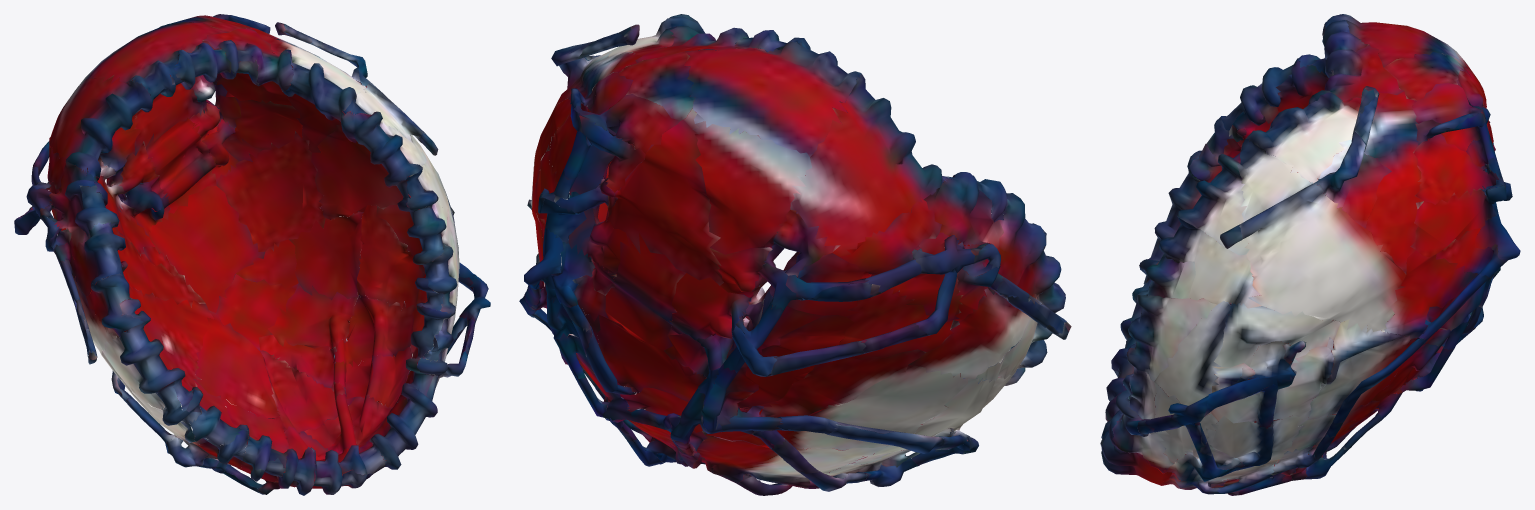
The model's file is glove.glb.
The picture shows the model from 3 angles, left to right: view 1: azimuth 30°, elevation 25°; view 2: azimuth 150°, elevation 25°; view 3: azimuth 270°, elevation 25°; orthographic projection. The views are drawn at different scales.
Visible parts, largest first — view 1: glove; view 2: glove; view 3: glove.
Part boxes in pixels (x1,y1,x2,y2): glove: (14, 14, 490, 495); glove: (519, 14, 1071, 495); glove: (1100, 14, 1520, 495).
Bounding box in the file's own units: 0.3001 × 0.2901 × 0.2612.
Materials: 1 (1 with a texture image).
